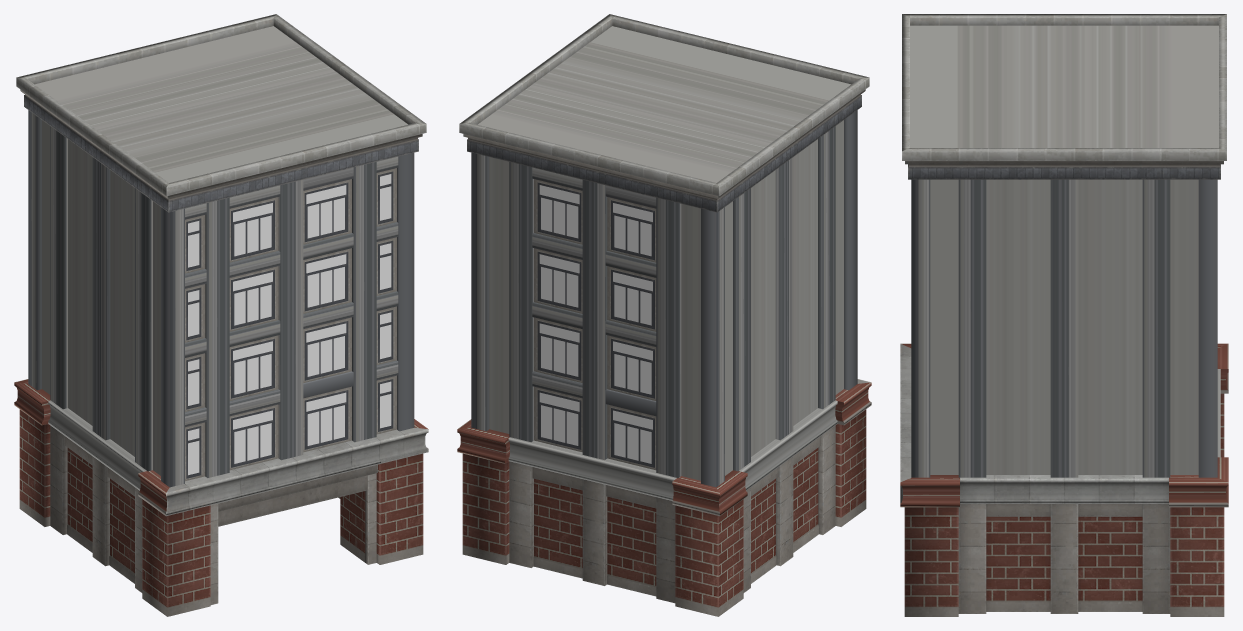
Rendered from objects_un_t06shopbuilding02.gltf.
3 views of the same model, side by side, from view 1: azimuth 30°, elevation 25°; view 2: azimuth 150°, elevation 25°; view 3: azimuth 270°, elevation 25° (orthographic). The views are drawn at different scales.
Visible parts, largest first — view 1: nomerge_t06shopbuilding02_shape:objects_un_t06building02_01, nomerge_t06shopbuilding02_shape:objects_un_t06building02_02, nomerge_t06shopbuilding02_shape:objects_un_behind, um_objects_un_t06shopbuilding02_model_lod0Shape:objects_un_t; view 2: nomerge_t06shopbuilding02_shape:objects_un_t06building02_01, nomerge_t06shopbuilding02_shape:objects_un_t06building02_02, nomerge_t06shopbuilding02_shape:objects_un_behind, um_objects_un_t06shopbuilding02_model_lod0Shape:objects_un_t; view 3: nomerge_t06shopbuilding02_shape:objects_un_t06building02_01, nomerge_t06shopbuilding02_shape:objects_un_t06building02_02.
Part boxes in pixels (x1,y1,x2,y2): nomerge_t06shopbuilding02_shape:objects_un_t06building02_01: (14, 14, 428, 616); nomerge_t06shopbuilding02_shape:objects_un_t06building02_02: (35, 26, 407, 475); nomerge_t06shopbuilding02_shape:objects_un_behind: (188, 174, 391, 475); um_objects_un_t06shopbuilding02_model_lod0Shape:objects_un_t: (186, 171, 393, 478); nomerge_t06shopbuilding02_shape:objects_un_t06building02_01: (457, 14, 871, 616); nomerge_t06shopbuilding02_shape:objects_un_t06building02_02: (478, 26, 850, 480); nomerge_t06shopbuilding02_shape:objects_un_behind: (539, 185, 652, 463); um_objects_un_t06shopbuilding02_model_lod0Shape:objects_un_t: (537, 182, 654, 467); nomerge_t06shopbuilding02_shape:objects_un_t06building02_01: (900, 14, 1228, 616); nomerge_t06shopbuilding02_shape:objects_un_t06building02_02: (910, 25, 1218, 474).
Size of what is drawn, in the model's own units: 12.12 by 19 by 12.12.
Materials: 4 (3 with a texture image).
